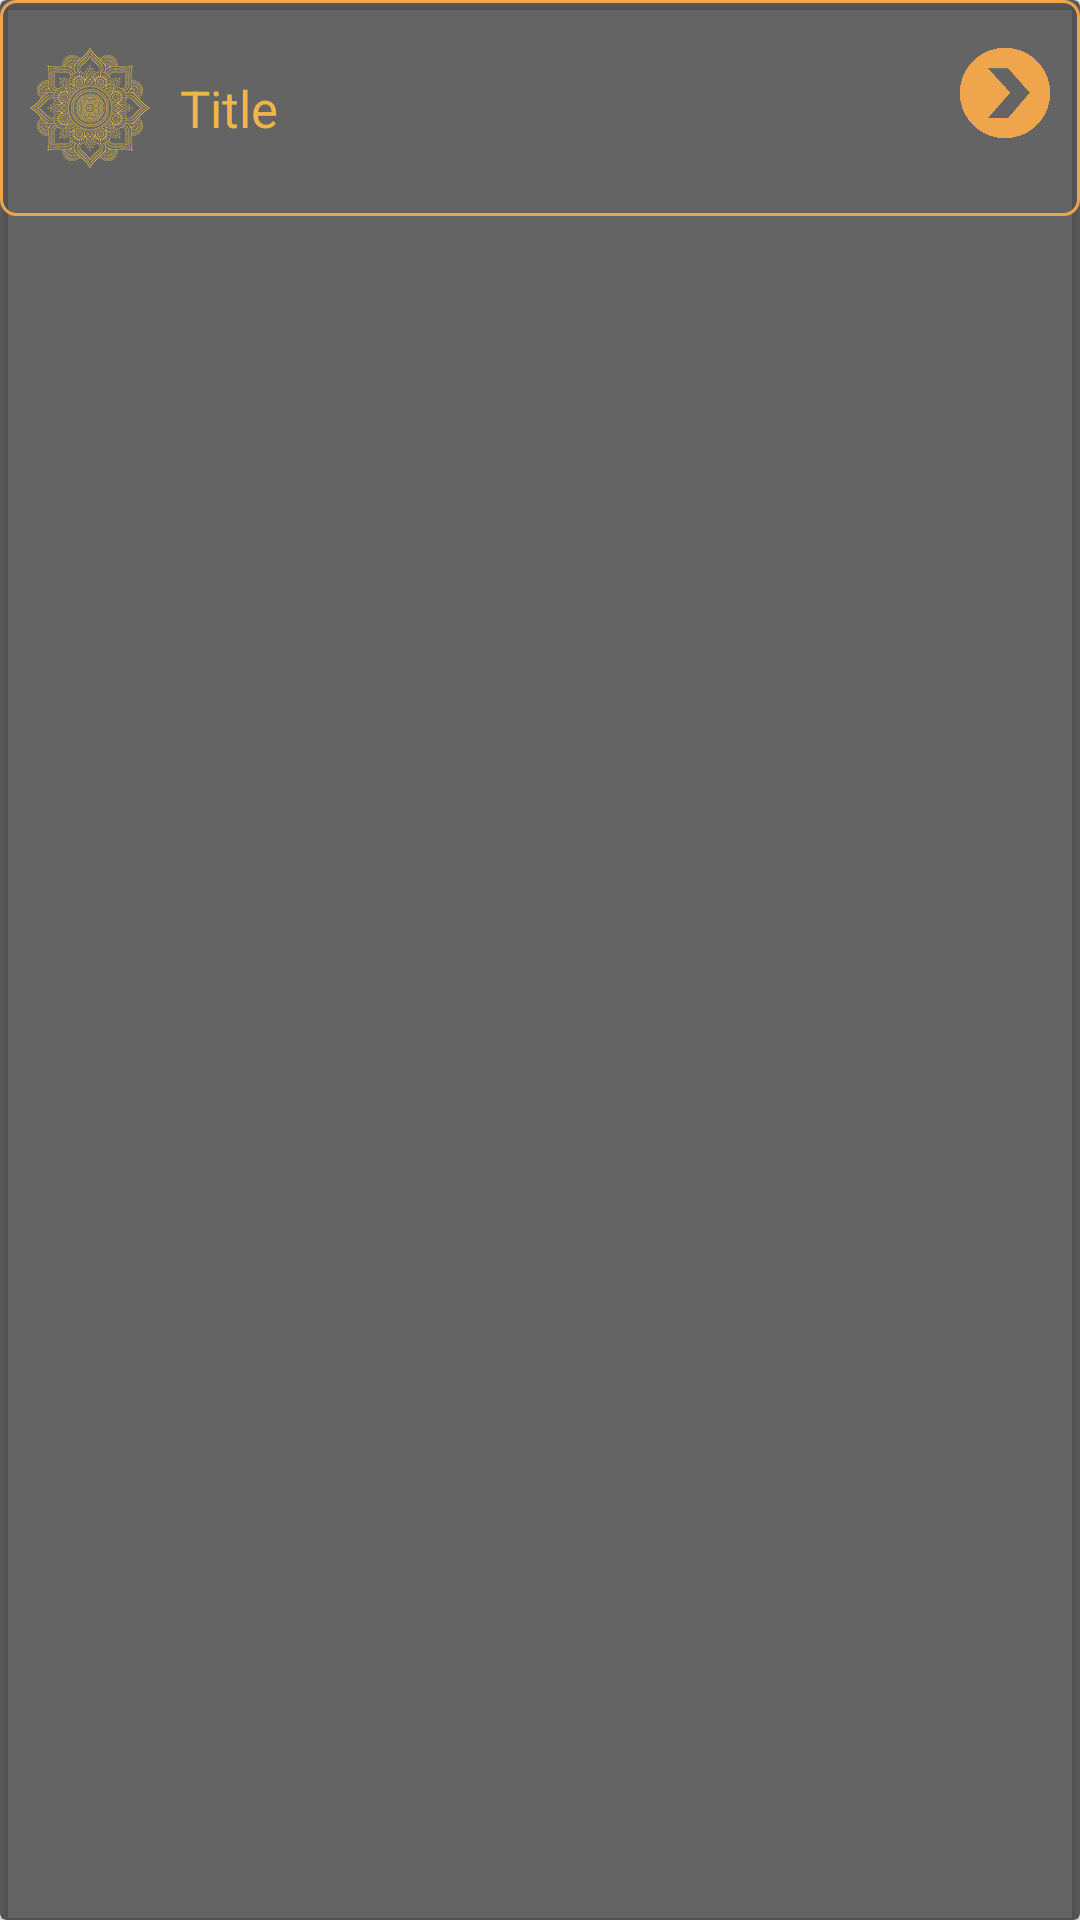

Screen size 1080×1920. Icon name, then its center in pixels as point (x, y):
islamic: point (90, 108)
next: point (1005, 93)
